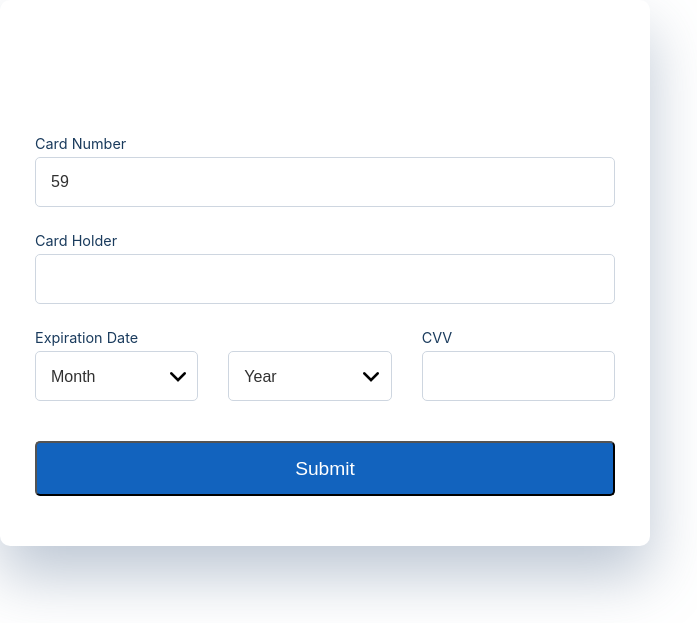
Scenario: On Form Component › Card number input › should apply a space after 4 given digits
Replace the text in the field with test id "formNumber" with "5910156": (325, 182) top-left (35, 157), bottom-right (615, 207)
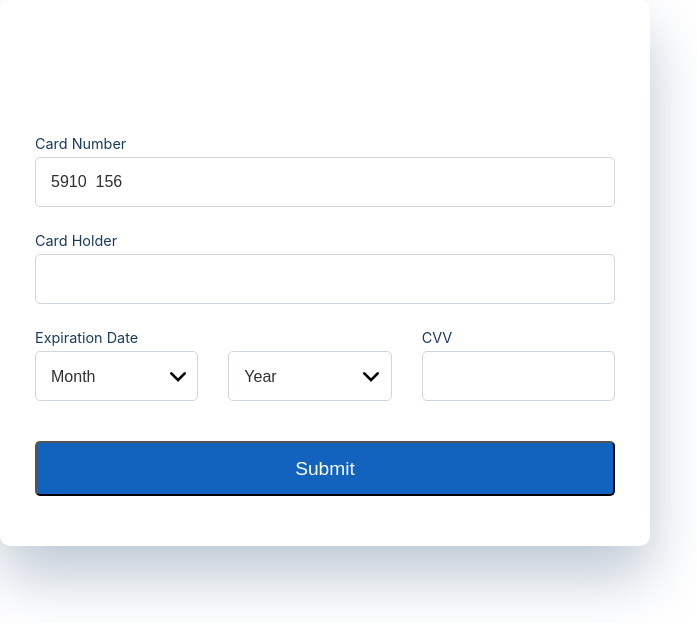
Expected: the field with test id "formNumber" holds "5910  156", top-left (35, 157), bottom-right (615, 207)
